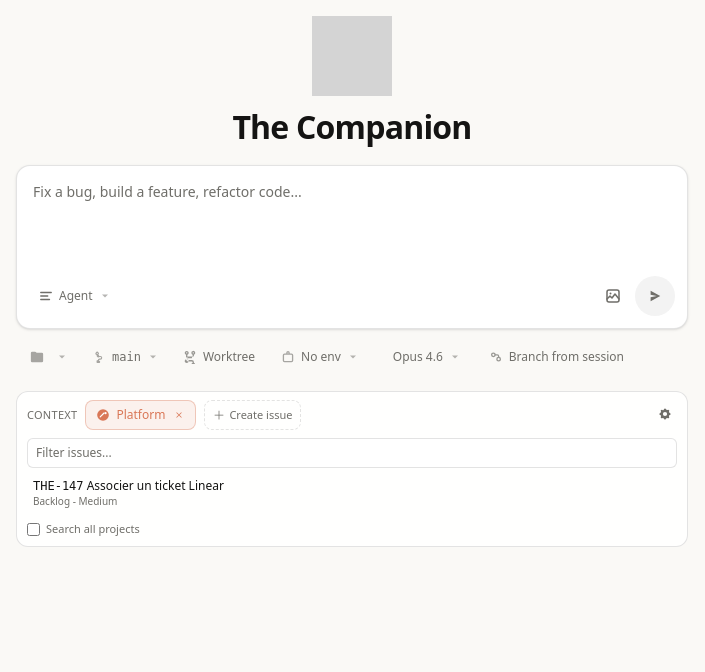
Test: HomePage › auto-sets branch from selected mapped Linear issue
The image size is (705, 672).
Click the button "THE-147 Associer un ticket Linear Backlog - Medium" at (58, 486), box [25,472,679,515]
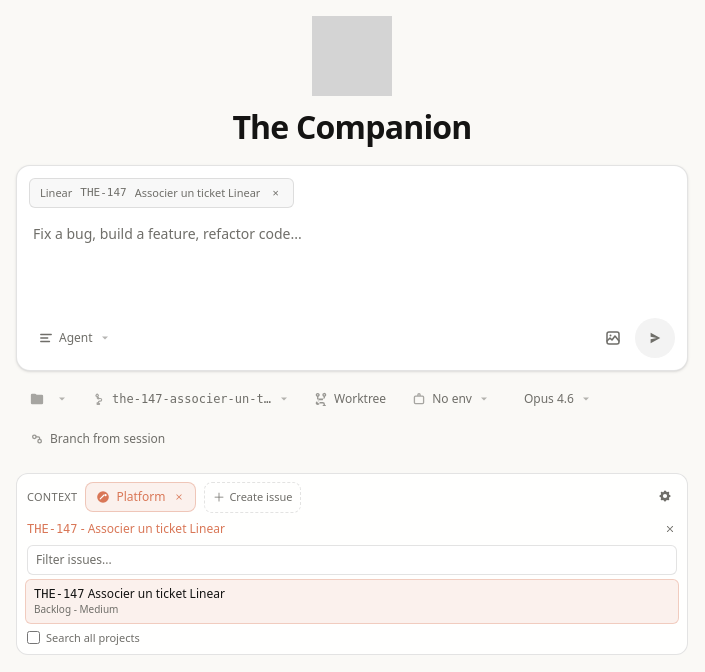
Result: the text "the-147-associer-un-ticket-linear" is shown at [112,391,272,407]
